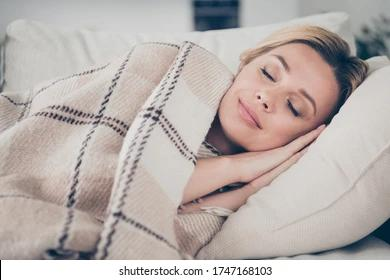blanket: (0, 40, 236, 259)
